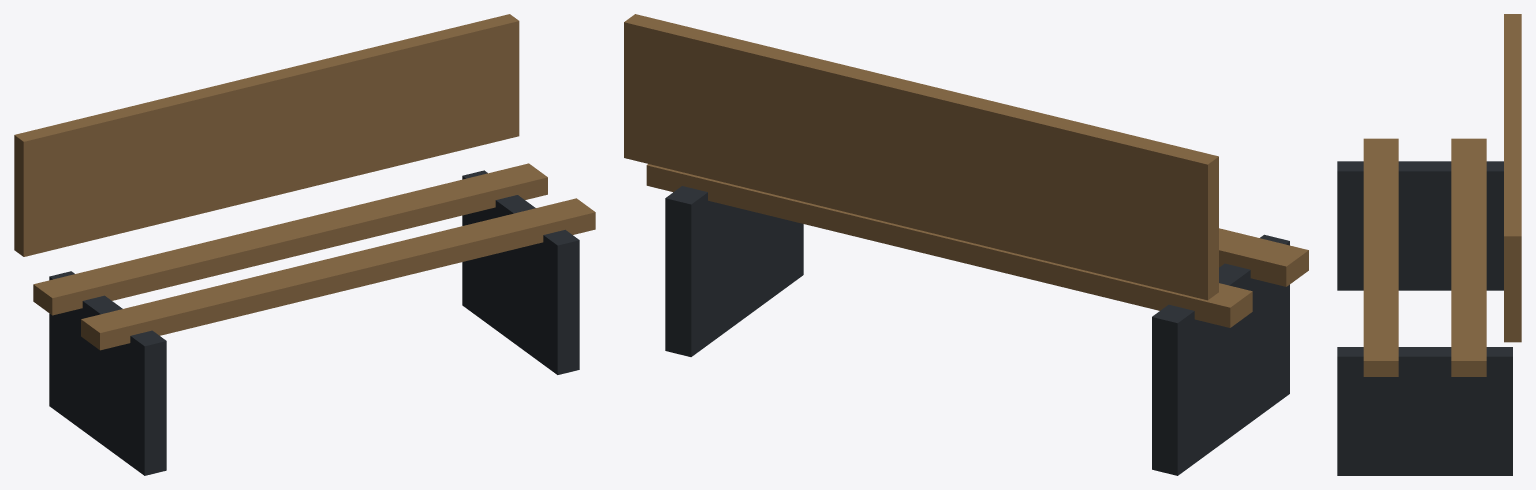
Rendered from bench.glb.
3 views of the same model, side by side, from view 1: azimuth 30°, elevation 25°; view 2: azimuth 150°, elevation 25°; view 3: azimuth 270°, elevation 25° (orthographic). The views are drawn at different scales.
Visible parts, largest first — view 1: Cube.001; view 2: Cube.001; view 3: Cube.001.
Boxes of the visible parts, <box> form: Cube.001: <box>14,14,595,475</box>; Cube.001: <box>624,14,1308,475</box>; Cube.001: <box>1337,14,1521,475</box>.
Size of the model in its own units: 1.8 by 0.955 by 0.63.
